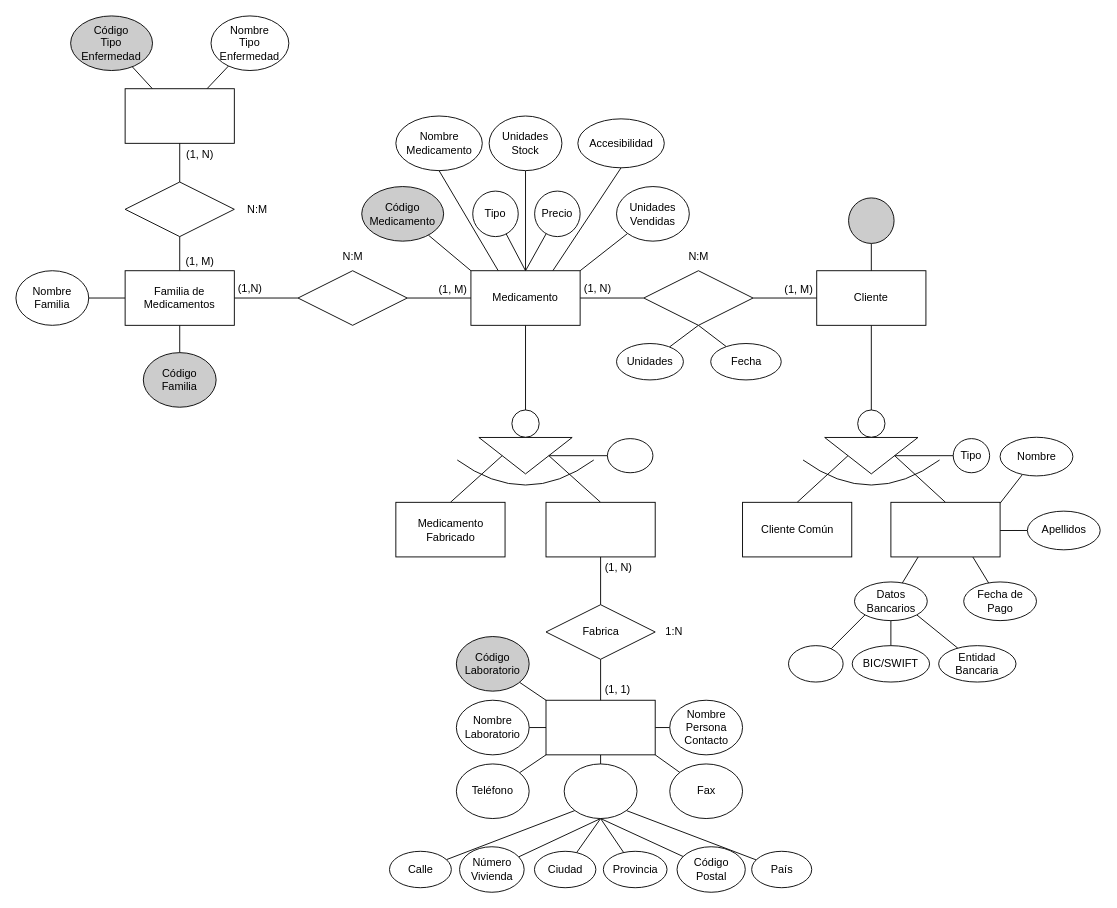
Image size: 1117x908. Some labels were removed from this diagram. The centre of each missing label's shape, as x and y in pixels:
"Cliente con Crédito" belongs at (x=945, y=529).
"Compra" belongs at (x=698, y=297).
"Dirección Postal" belongs at (x=600, y=791).
"DNI" belongs at (x=871, y=220).
"IBAN" belongs at (x=815, y=663).
"Laboratorio" belongs at (x=600, y=727).
"Medicamento Comprado" belongs at (x=600, y=529).
"Origen" belongs at (x=630, y=455).
"Pertenece a" belongs at (x=352, y=297).
"Se aplica" belongs at (x=179, y=209).
"Tipo Enfermedad" belongs at (x=179, y=115).
